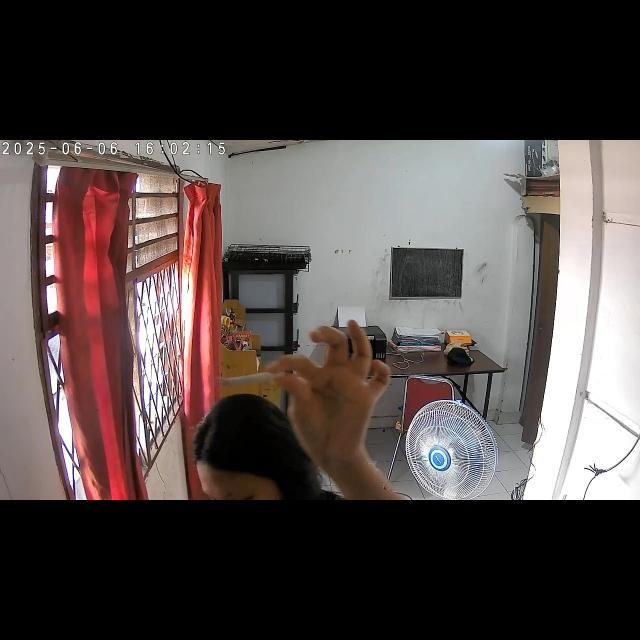rokok: (216, 369, 290, 386)
